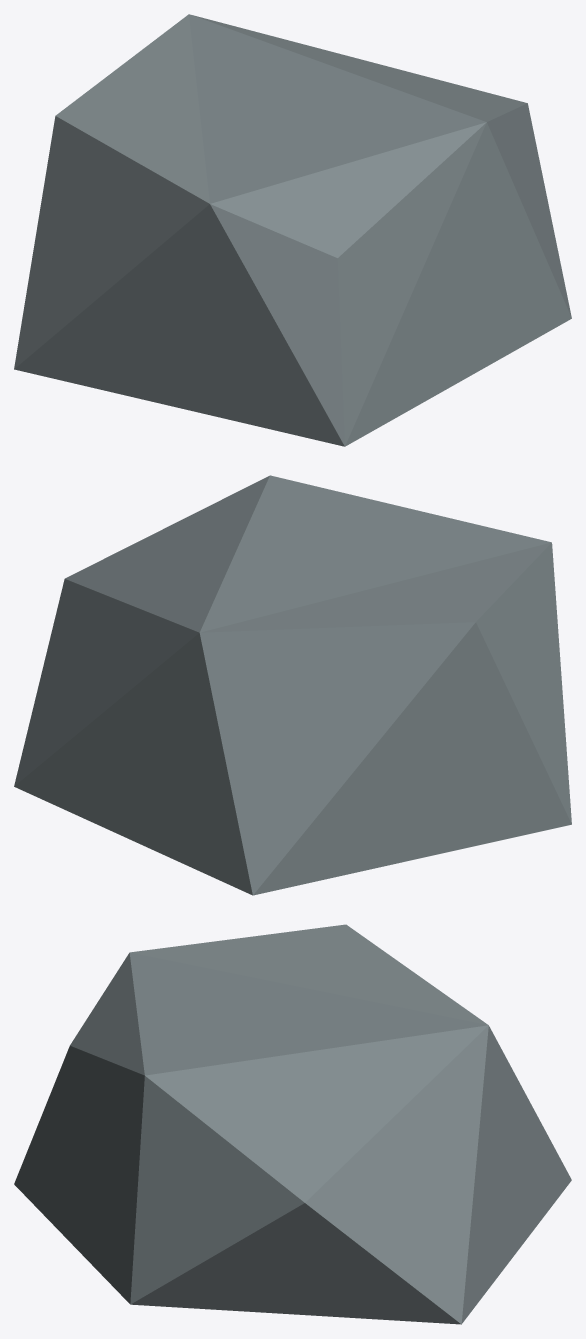
The model's file is Rock_02.fbx.
3 renders of one model, top to bottom at view 1: azimuth 30°, elevation 25°; view 2: azimuth 150°, elevation 25°; view 3: azimuth 270°, elevation 25°, orthographic. The views are drawn at different scales.
Parts seen in each view (by area): view 1: Rock_02; view 2: Rock_02; view 3: Rock_02.
Part boxes in pixels (x1,y1,x2,y2): Rock_02: (14,14,571,446); Rock_02: (14,475,571,895); Rock_02: (14,924,571,1324).
Bounding box in the file's own units: 0.6506 × 0.3164 × 0.6515.
